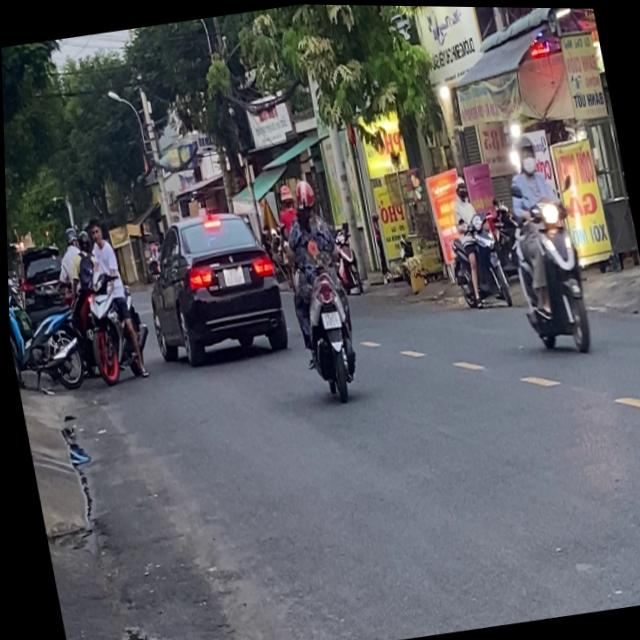helmet: (512, 129, 539, 171), (290, 174, 316, 214), (451, 173, 469, 200)
licenseplate: (488, 124, 598, 360), (267, 170, 367, 402), (433, 168, 512, 312)
nohelmet: (319, 307, 339, 327)
